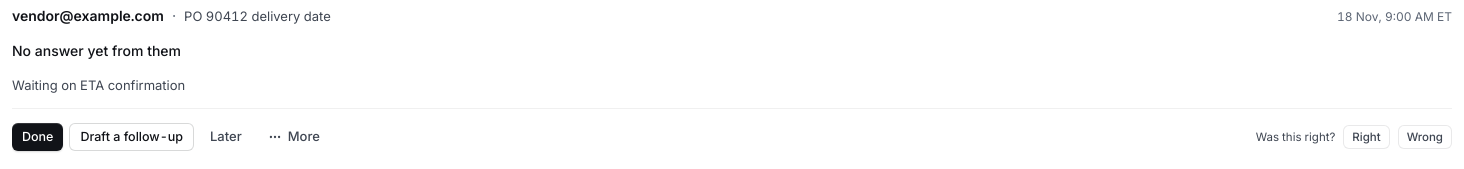
Test: a to-do item › offers Draft a follow-up on waiting items ('No answer yet from ...')
The image size is (1464, 169).
Click the button "Draft a follow-up": (132, 137) [69,123,194,151]
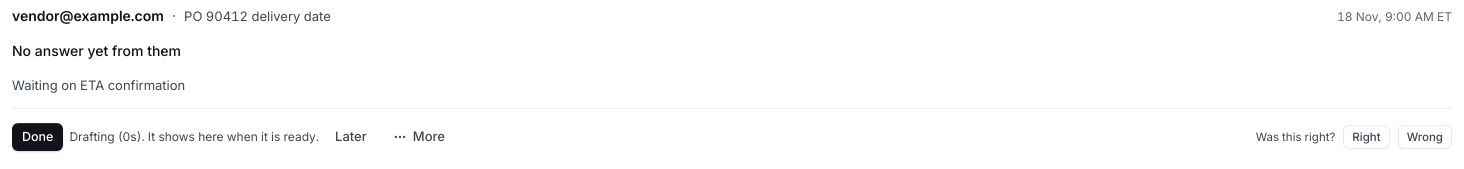
Expected: the message "Drafting (0s). It shows here when it is ready." is shown, [69,125,319,148]
